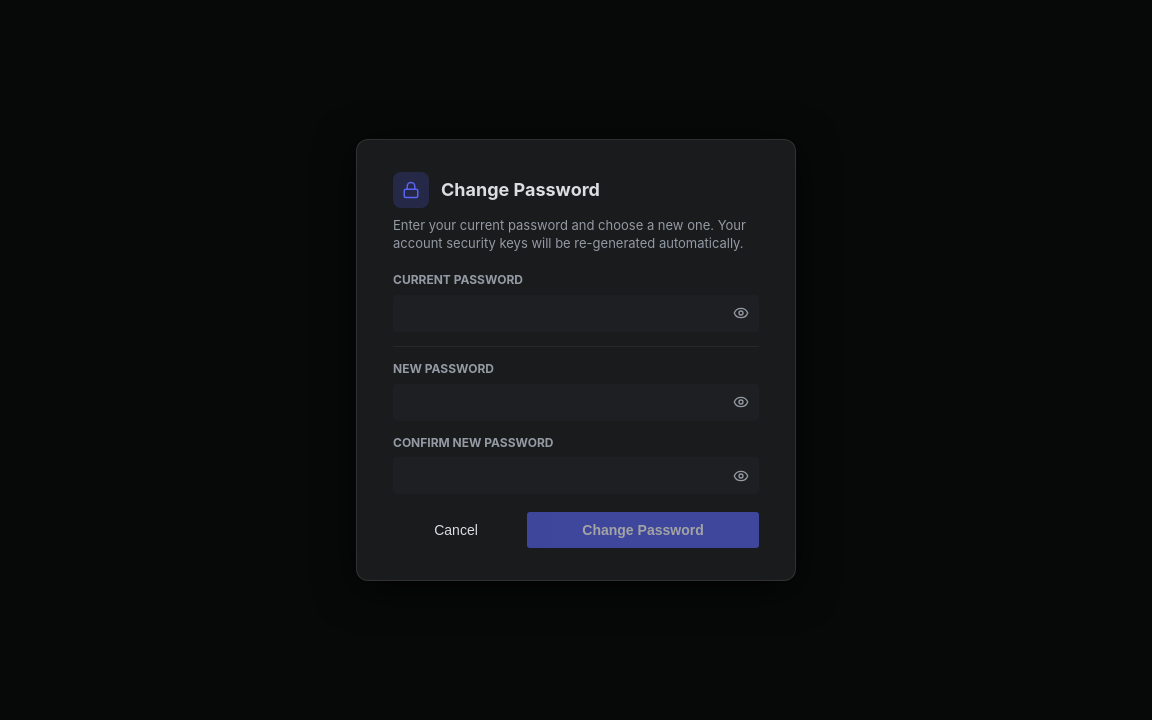
ChangePasswordModal › shows error when new password is the same as current password
The width and height of the screenshot is (1152, 720).
Type "samepassword123" into the password field with test id "change-password-current" at (576, 313), box [393, 295, 759, 332]
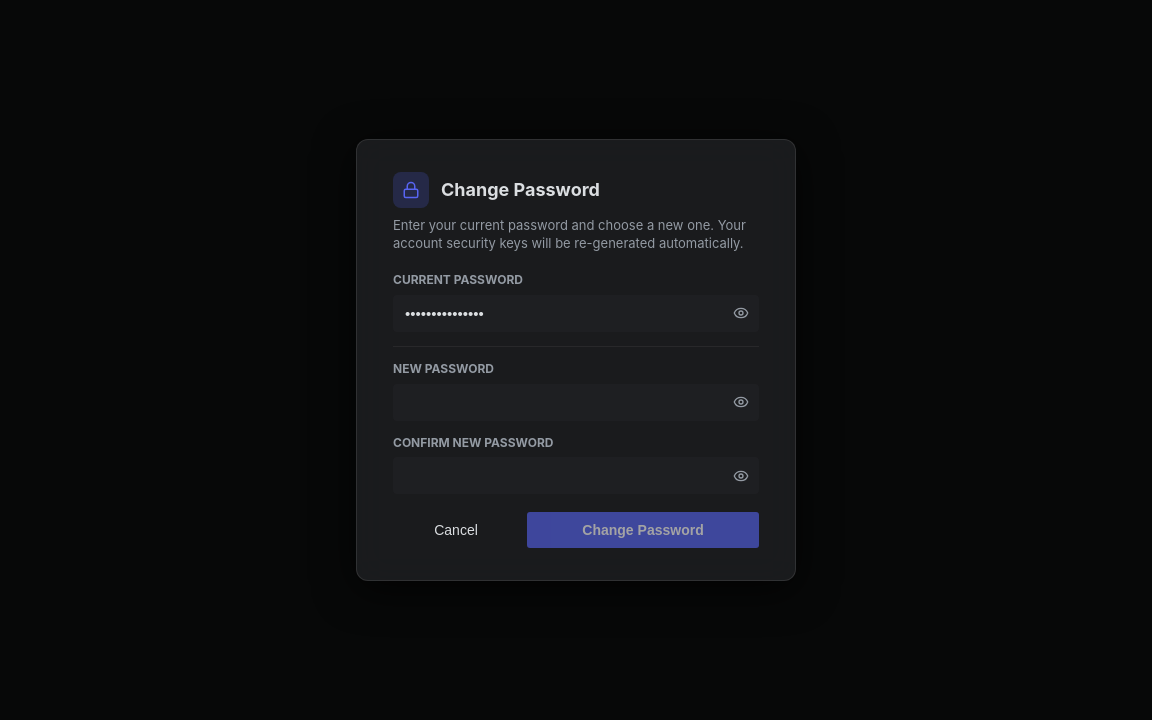
Type "samepassword123" into the password field with test id "change-password-new" at (576, 402), box [393, 384, 759, 421]
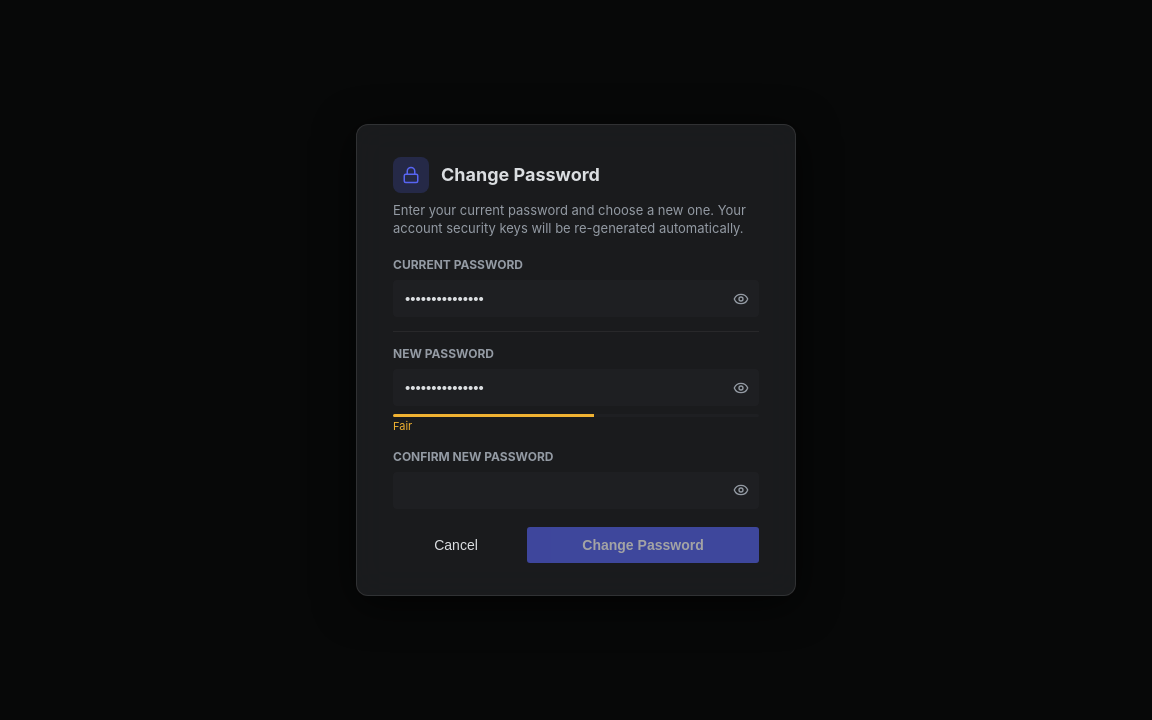
Type "samepassword123" into the password field with test id "change-password-confirm" at (576, 490), box [393, 472, 759, 509]
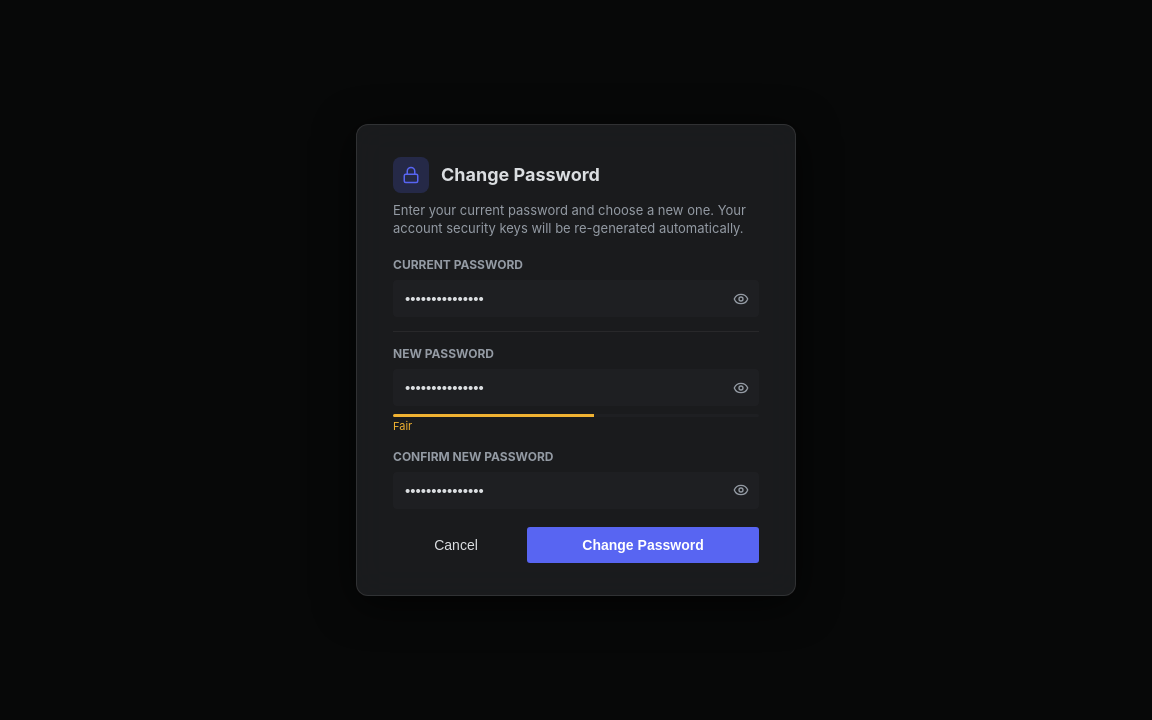
Click the button "Change Password" at (643, 545), box [527, 527, 759, 563]
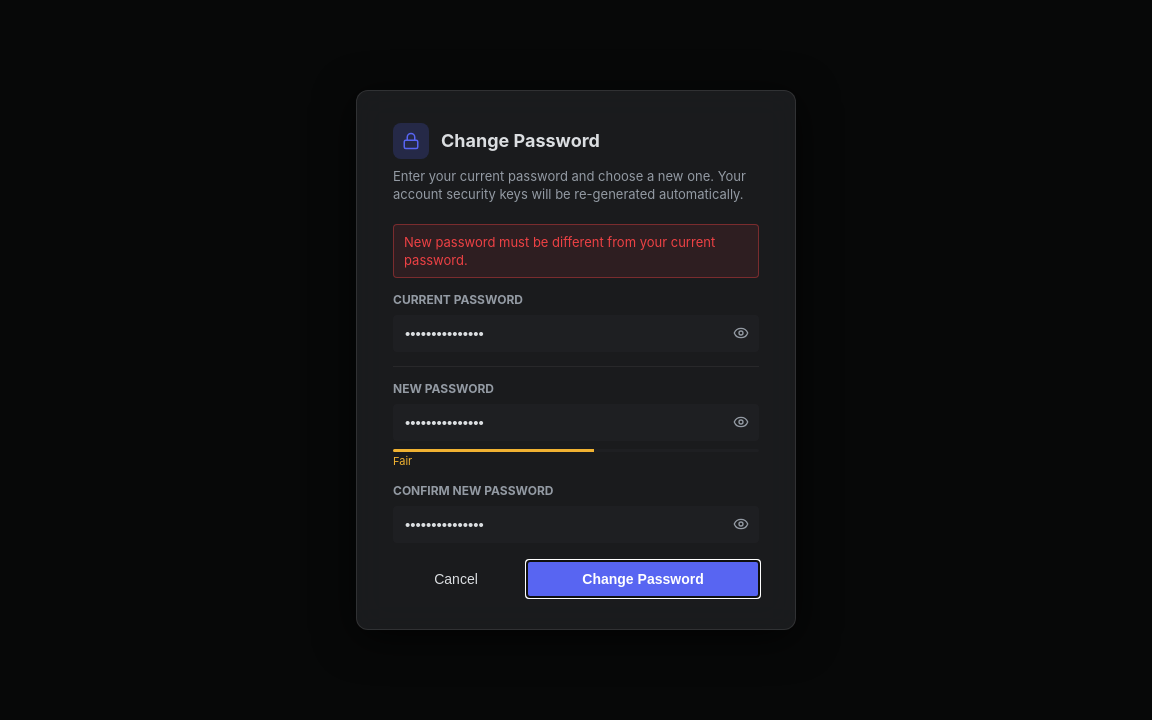
Expected: the text "New password must be different from your current password." is shown, [393, 224, 759, 278]
